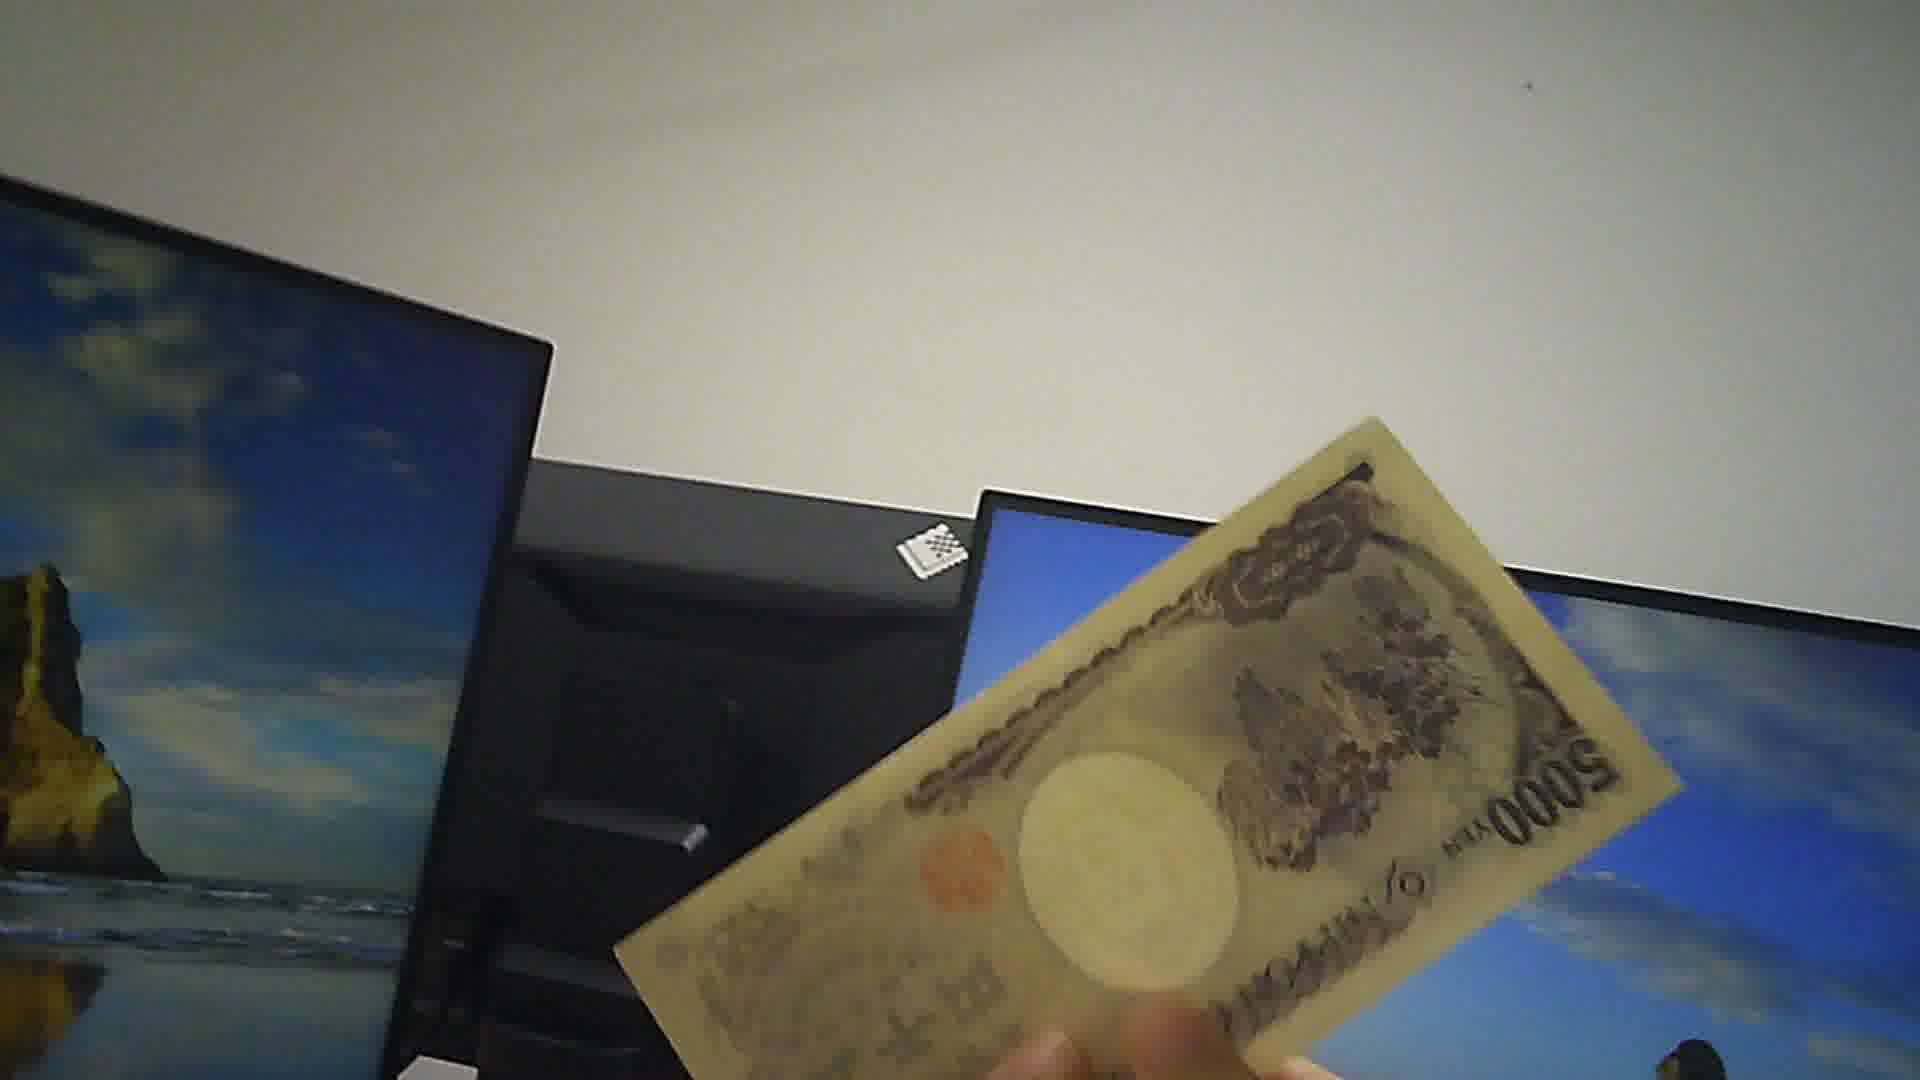5,000 Yen: (621, 415, 1659, 1059)
